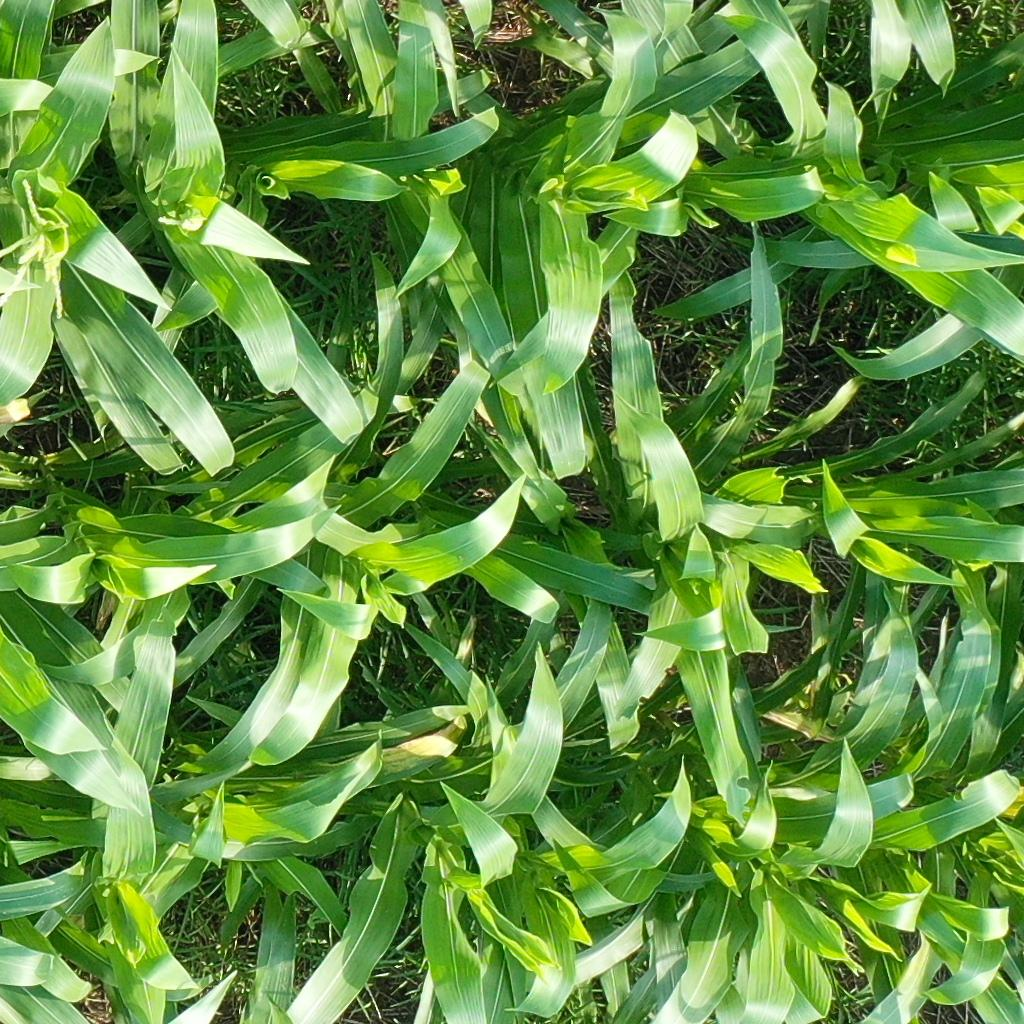Tassel: (1, 173, 74, 320), (152, 198, 209, 237)
